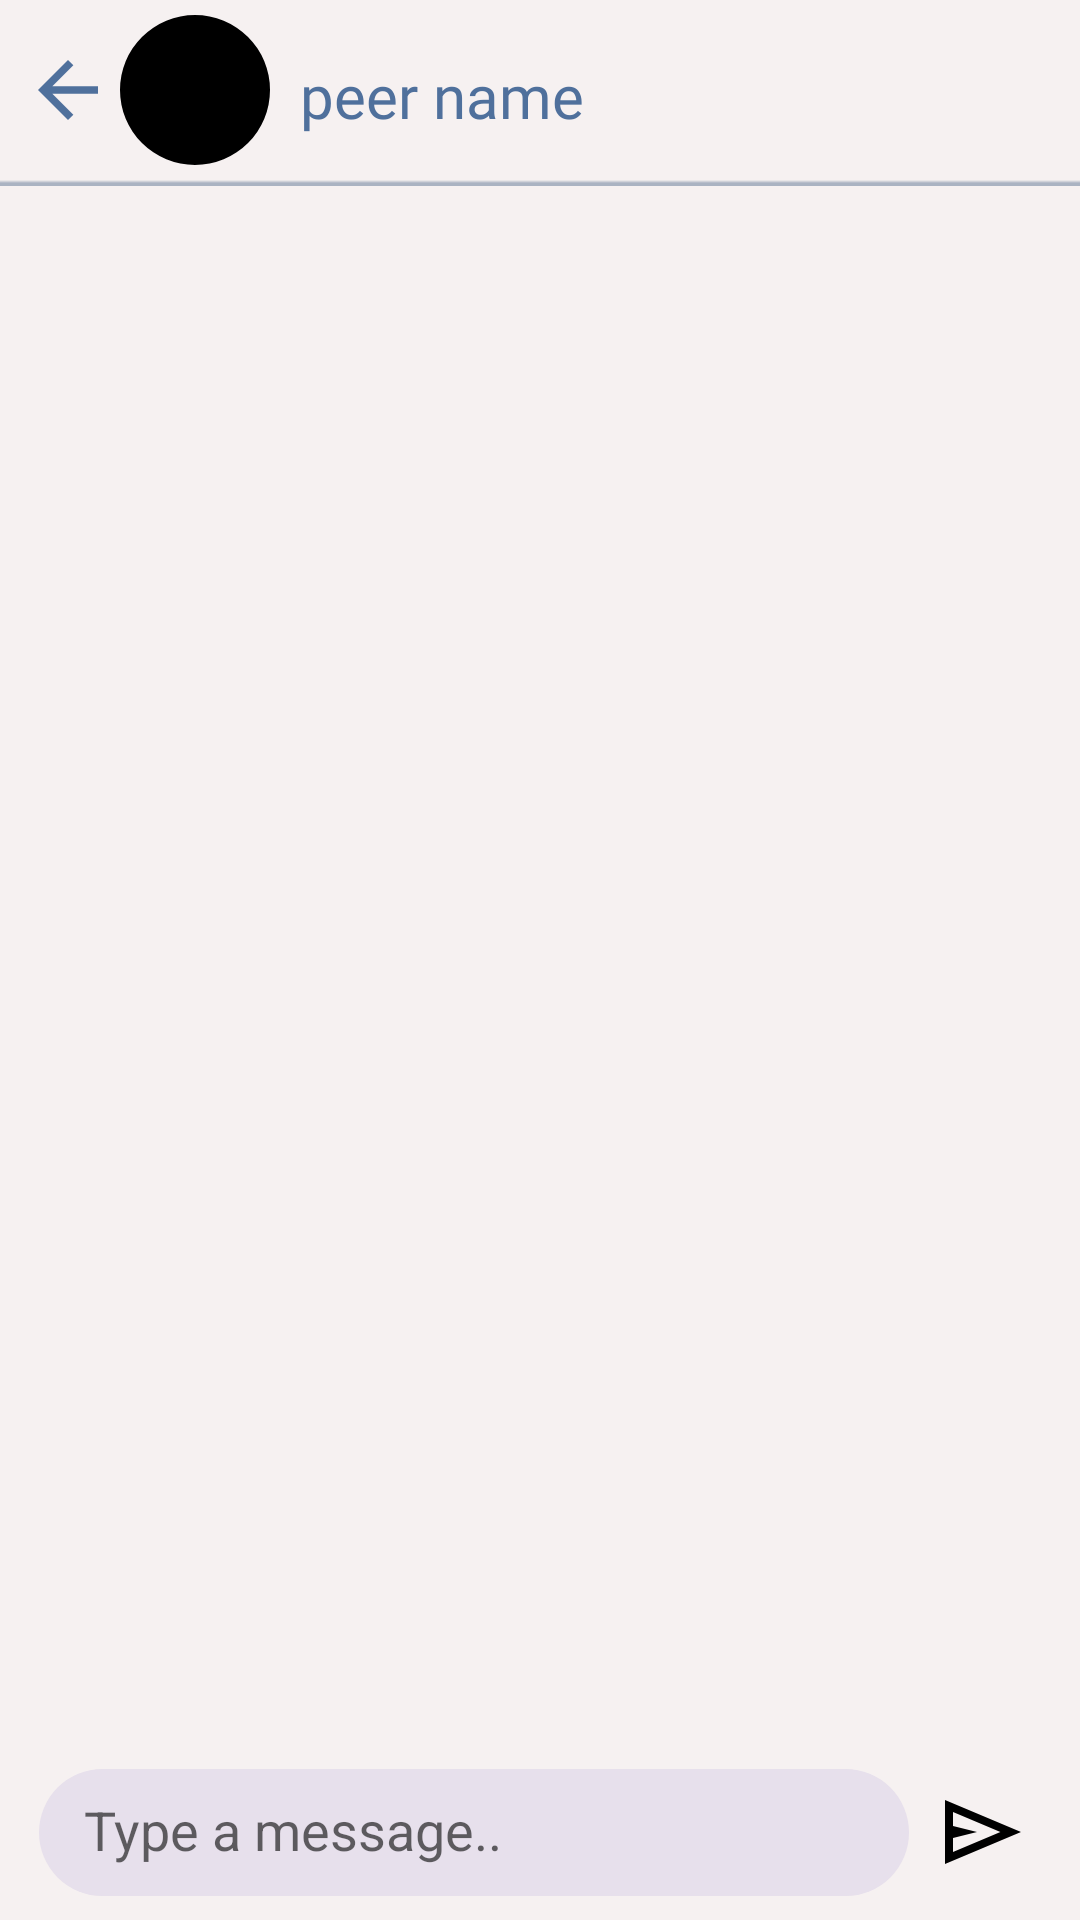

Where icons sit on this 1080px×1920px app screen, as (x1, y1, x2, y2):
back: (38, 60, 98, 120)
Send message: (945, 1800, 1021, 1864)
